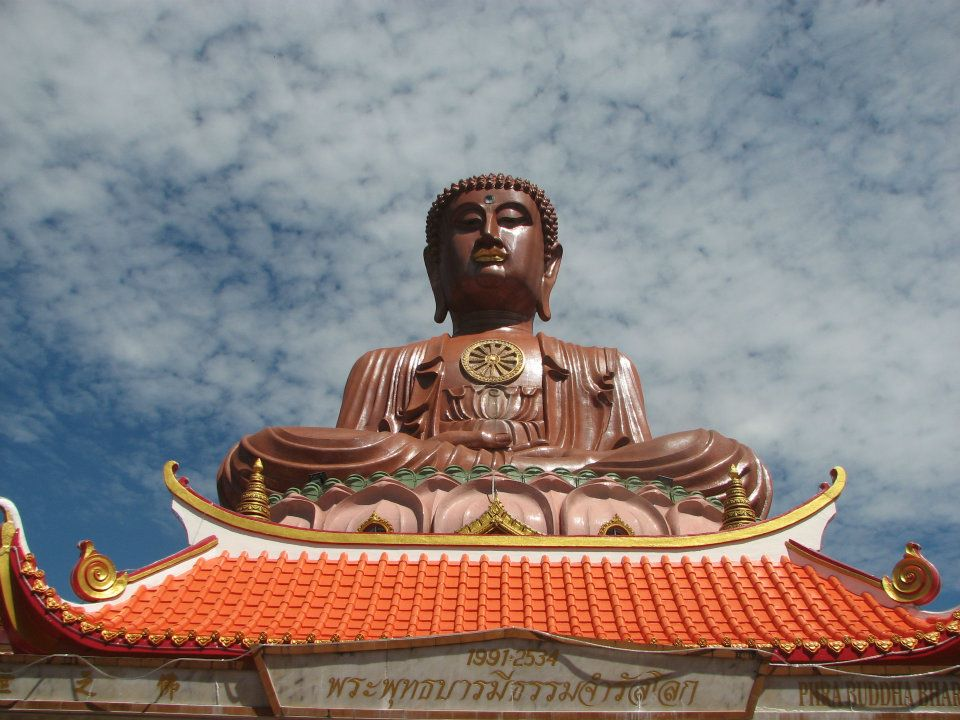Buddhist Temple: (13, 153, 928, 700)
